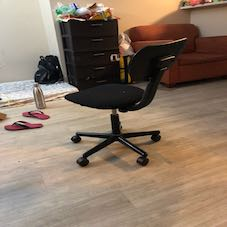chair: (39, 6, 191, 170)
